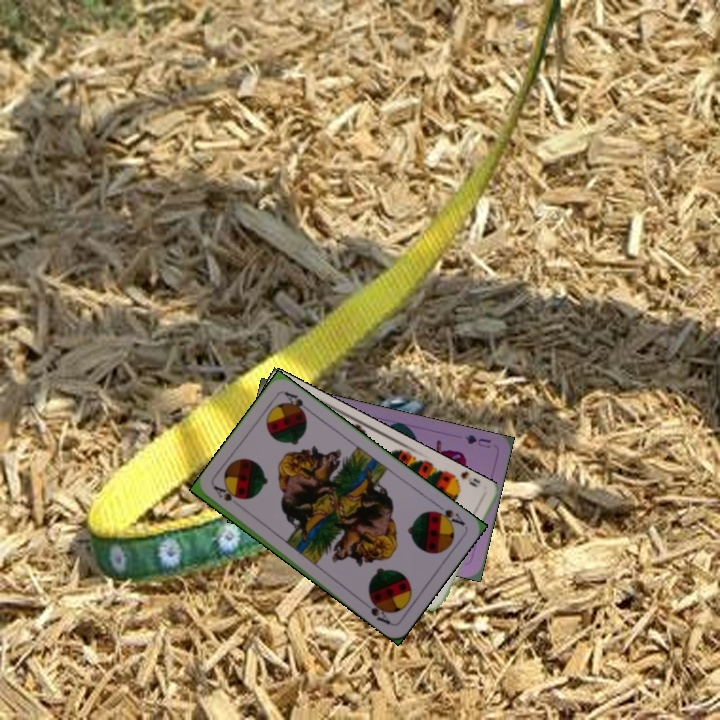GU: (461, 430, 493, 451)
S9: (445, 470, 482, 490)
SA: (428, 500, 468, 529), (210, 482, 235, 504)
